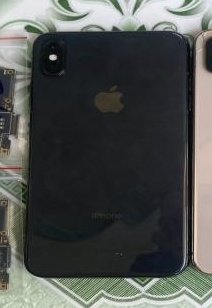physical_damage: (187, 26, 212, 76)
